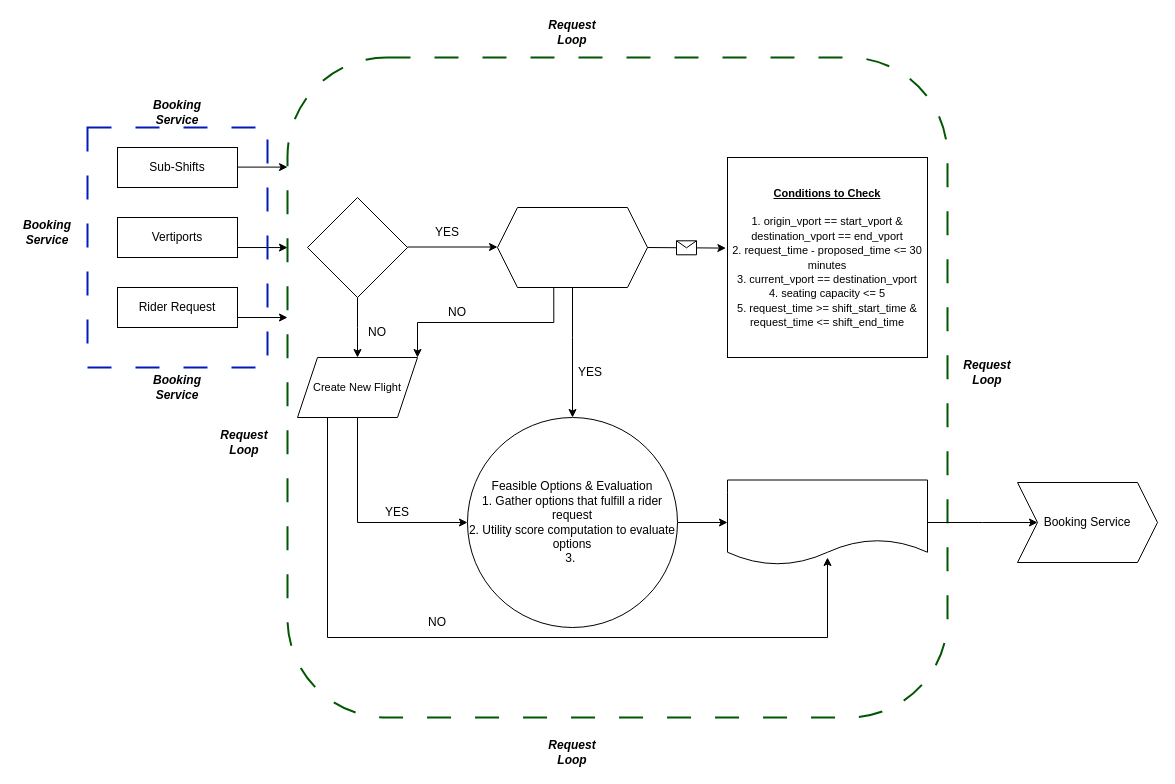
Image size: 1175x784. Some labels were removed from this diagram. The centre of each missing label's shape, as x and y in pixels:
"Can we accommodate the request?" belongs at (572,247).
"Existing Flight" belongs at (357,247).
"Scored/Ranked Outputs for fulfilled requests only" belongs at (827,522).
